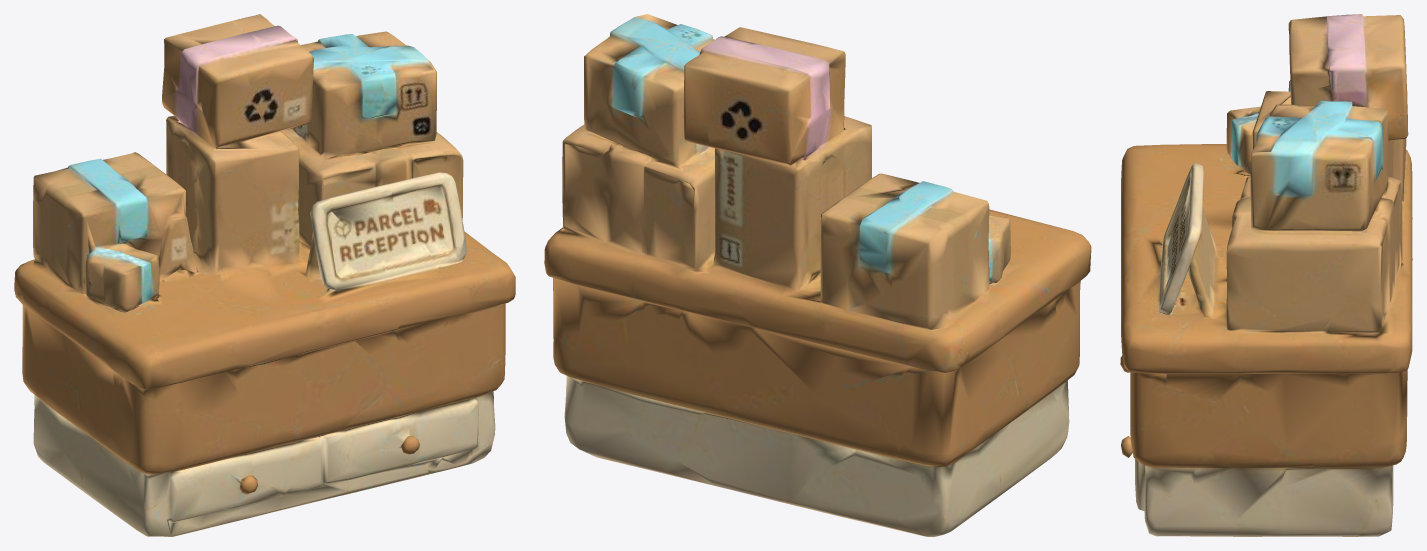
Rendered from parcel_desk.glb.
3 renders of one model, left to right at view 1: azimuth 30°, elevation 25°; view 2: azimuth 150°, elevation 25°; view 3: azimuth 270°, elevation 25°, orthographic. The views are drawn at different scales.
Bounding box in the file's own units: 1.9 × 1.85 × 1.17.
1 material, 1 textured.
